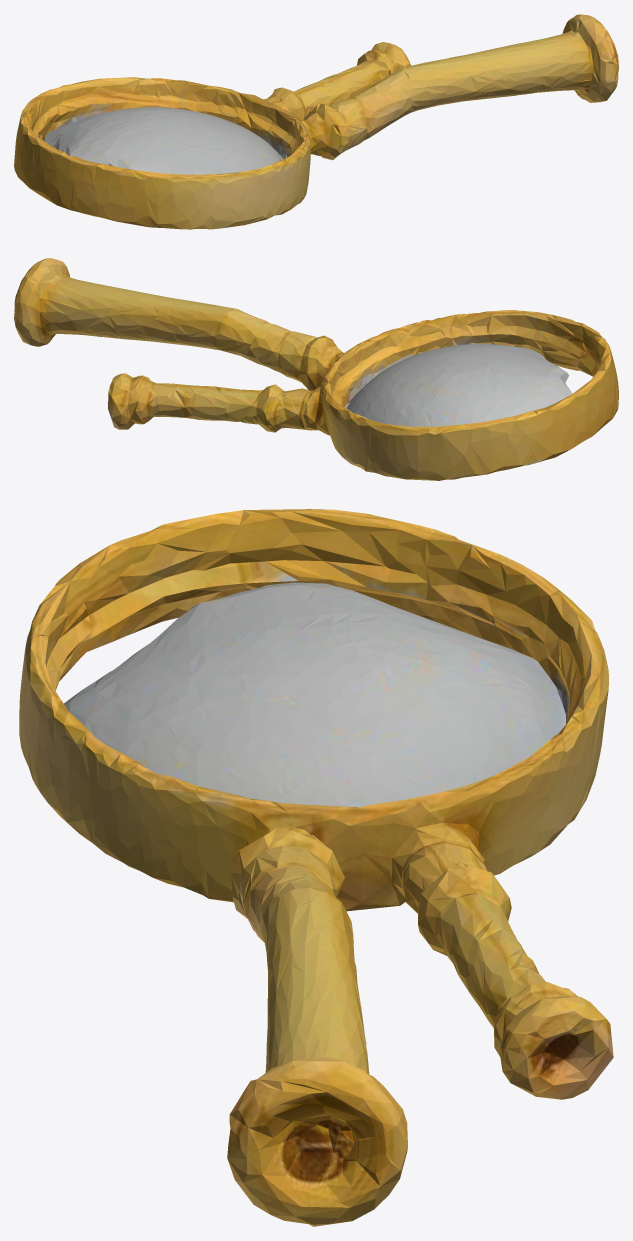
File: lens.glb
3 views of the same model, one above another, from view 1: azimuth 30°, elevation 25°; view 2: azimuth 150°, elevation 25°; view 3: azimuth 270°, elevation 25° (orthographic). The views are drawn at different scales.
Parts seen in each view (by area): view 1: lens; view 2: lens; view 3: lens.
Boxes of the visible parts, x1=… form: lens: x1=14, y1=14, x2=618, y2=229; lens: x1=14, y1=258, x2=618, y2=480; lens: x1=19, y1=509, x2=613, y2=1226.
Size of the model in its own units: 1.99 by 0.3313 by 0.9075.
1 material, 1 textured.
